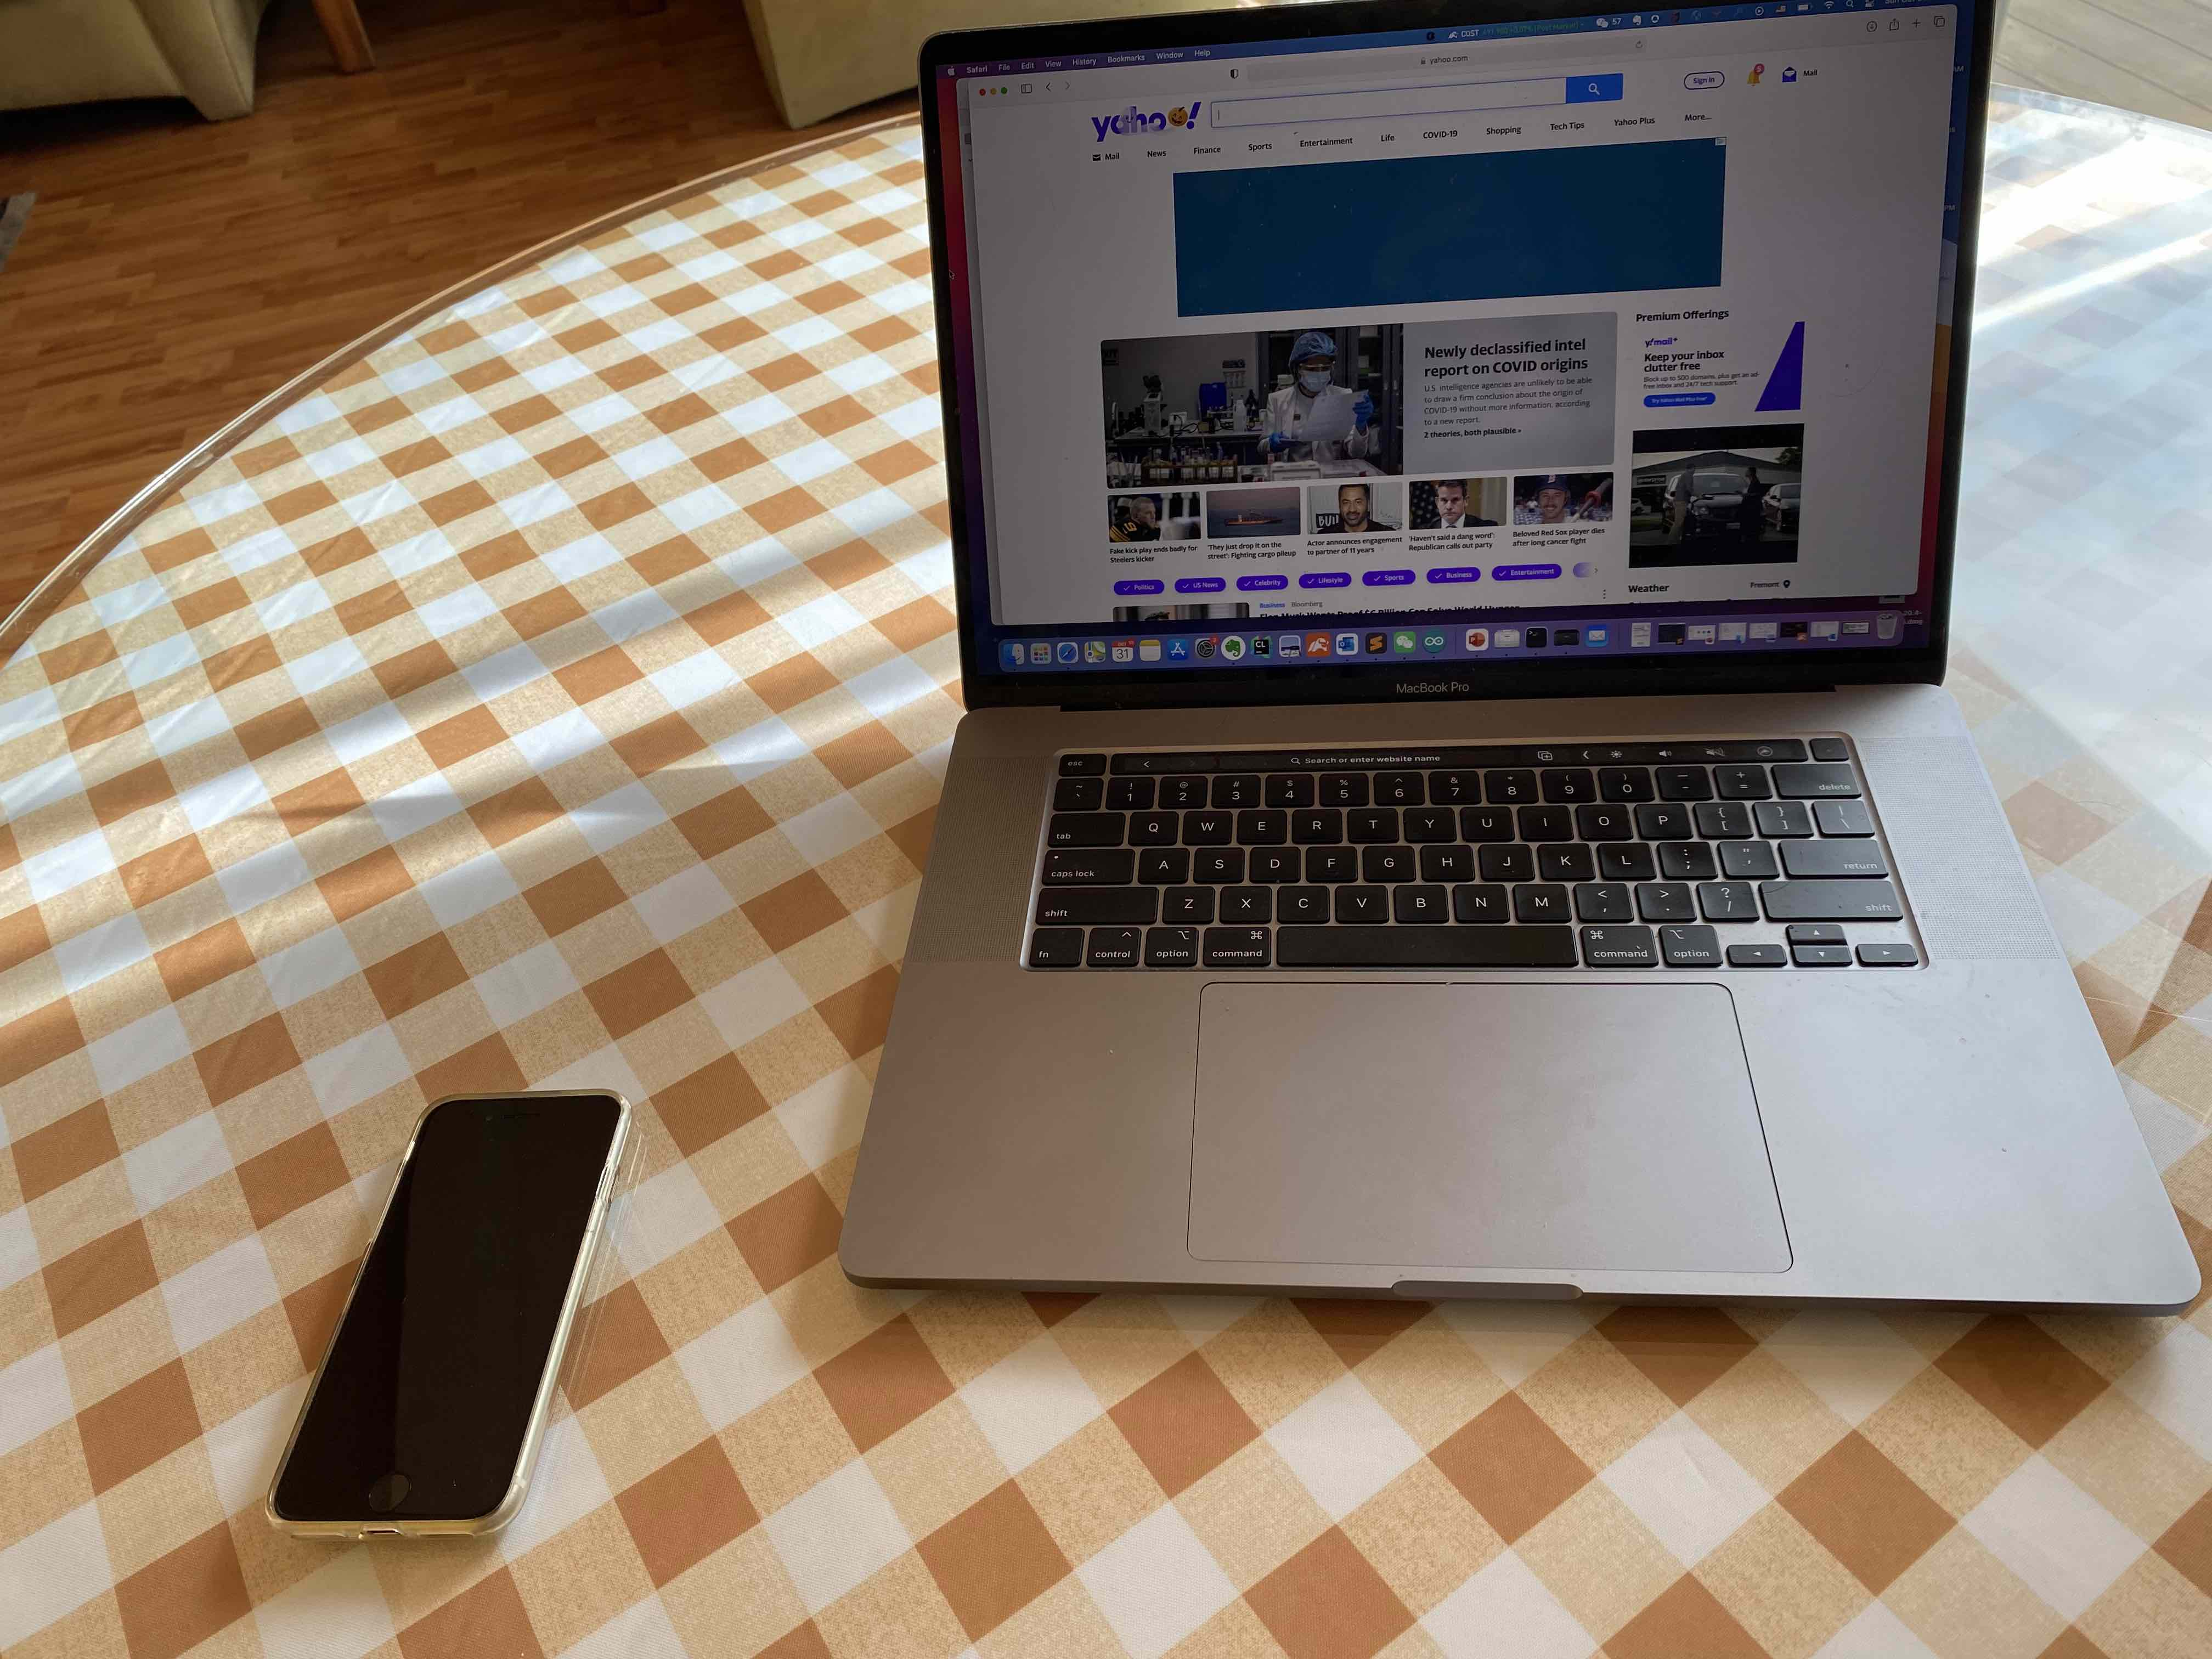Cell Phone: (266, 1096, 631, 1544)
